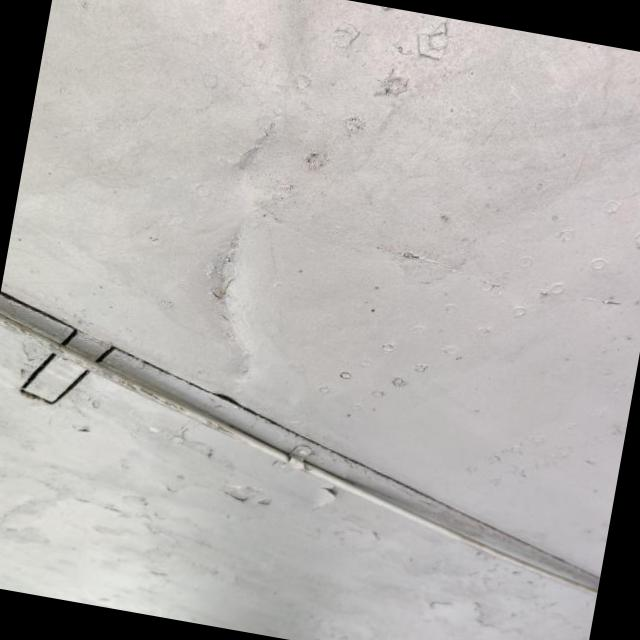Dent: (176, 177, 268, 399)
